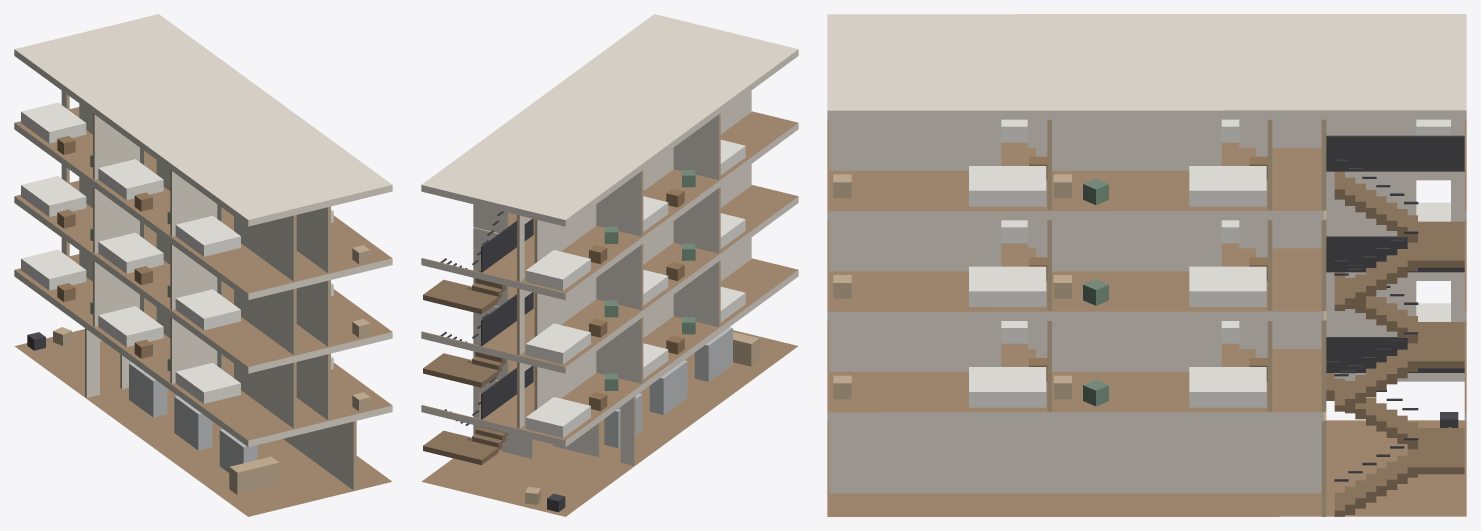
Rendered from interior.glb.
3 views of the same model, side by side, from view 1: azimuth 30°, elevation 25°; view 2: azimuth 150°, elevation 25°; view 3: azimuth 270°, elevation 25° (orthographic). The views are drawn at different scales.
Visible parts, largest first — view 1: slabs, partitions, coarse-s1, coarse-s3, coarse-s2, coarse-s0; view 2: slabs, partitions, stair, coarse-s0, coarse-s1, coarse-s3, coarse-s2; view 3: slabs, partitions, stair, coarse-s2, coarse-s1, coarse-s3.
Boxes of the visible parts, box(x1,y1,x2,y2) form: slabs: box(14, 14, 392, 516); partitions: box(61, 91, 356, 490); coarse-s1: box(21, 249, 370, 411); coarse-s3: box(21, 102, 370, 264); coarse-s2: box(21, 176, 370, 337); coarse-s0: box(27, 327, 279, 495); slabs: box(421, 14, 798, 516); partitions: box(473, 90, 751, 465); stair: box(423, 211, 533, 465); coarse-s0: box(525, 327, 759, 512); coarse-s1: box(525, 286, 745, 437); coarse-s3: box(525, 139, 745, 290); coarse-s2: box(525, 213, 745, 364); slabs: box(827, 14, 1466, 516); partitions: box(829, 119, 1464, 516); stair: box(1326, 135, 1464, 516); coarse-s2: box(833, 202, 1450, 306); coarse-s1: box(833, 303, 1450, 407); coarse-s3: box(833, 119, 1450, 206).
Size of the model in its own units: 5.91 by 11.61 by 16.52.
